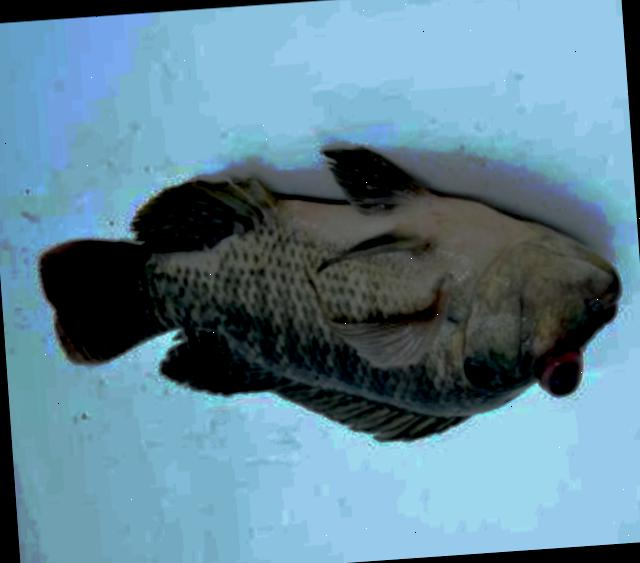Streptococcus: (41, 147, 619, 440), (41, 147, 619, 439), (41, 146, 619, 437)
